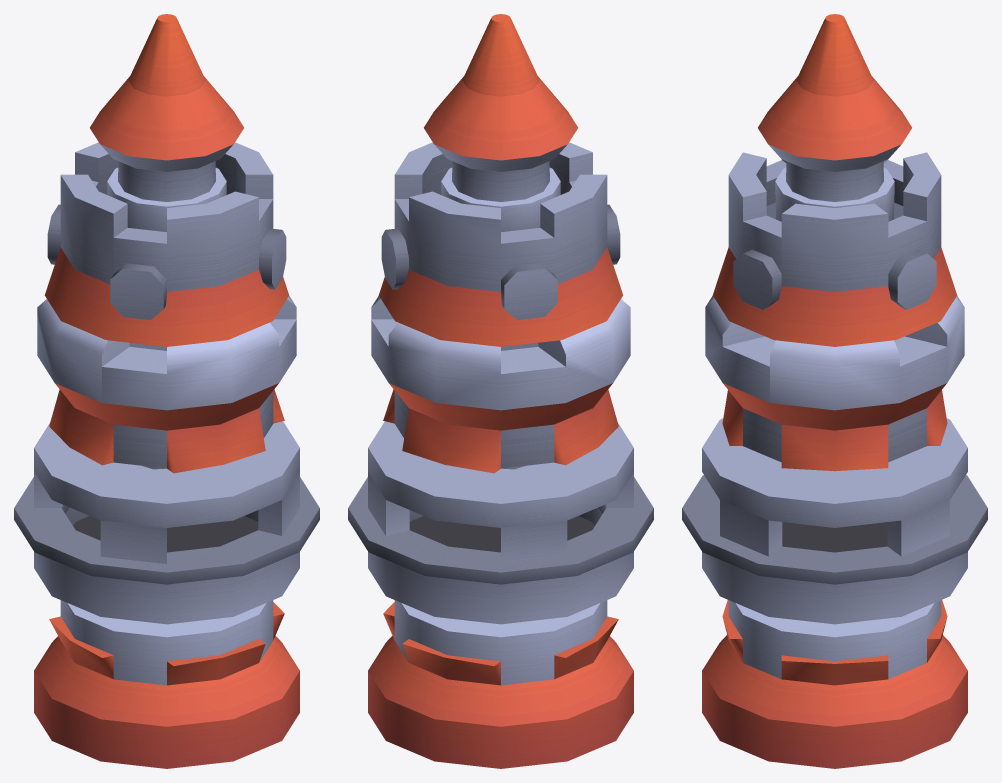
The model's file is tower_roof.glb.
The picture shows the model from 3 angles, left to right: view 1: azimuth 30°, elevation 25°; view 2: azimuth 150°, elevation 25°; view 3: azimuth 270°, elevation 25°; orthographic projection.
Parts seen in each view (by area): view 1: tower-round-bottom-c_b; view 2: tower-round-bottom-c_b; view 3: tower-round-bottom-c_b.
Part boxes in pixels (x1=…): tower-round-bottom-c_b: x1=14, y1=14, x2=319, y2=768; tower-round-bottom-c_b: x1=348, y1=14, x2=653, y2=768; tower-round-bottom-c_b: x1=682, y1=14, x2=987, y2=768.
Bounding box in the file's own units: 0.9574 × 2.4 × 0.9574.
Materials: 4 (4 with a texture image).
